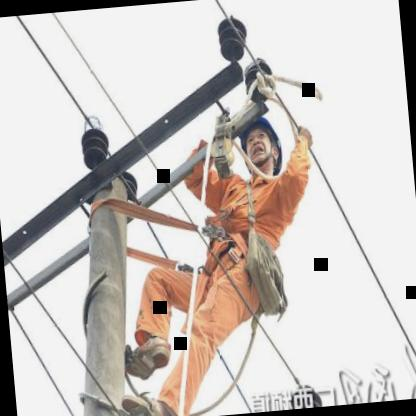helmet: (232, 98, 292, 190)
